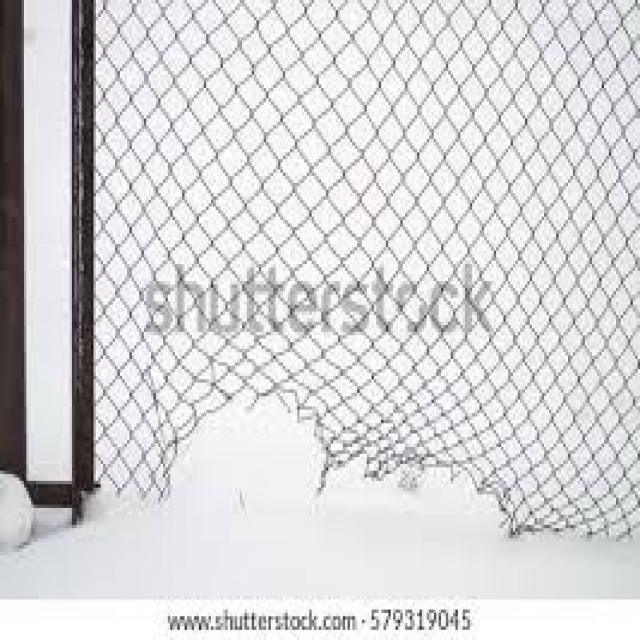fence line: (170, 410, 517, 533)
